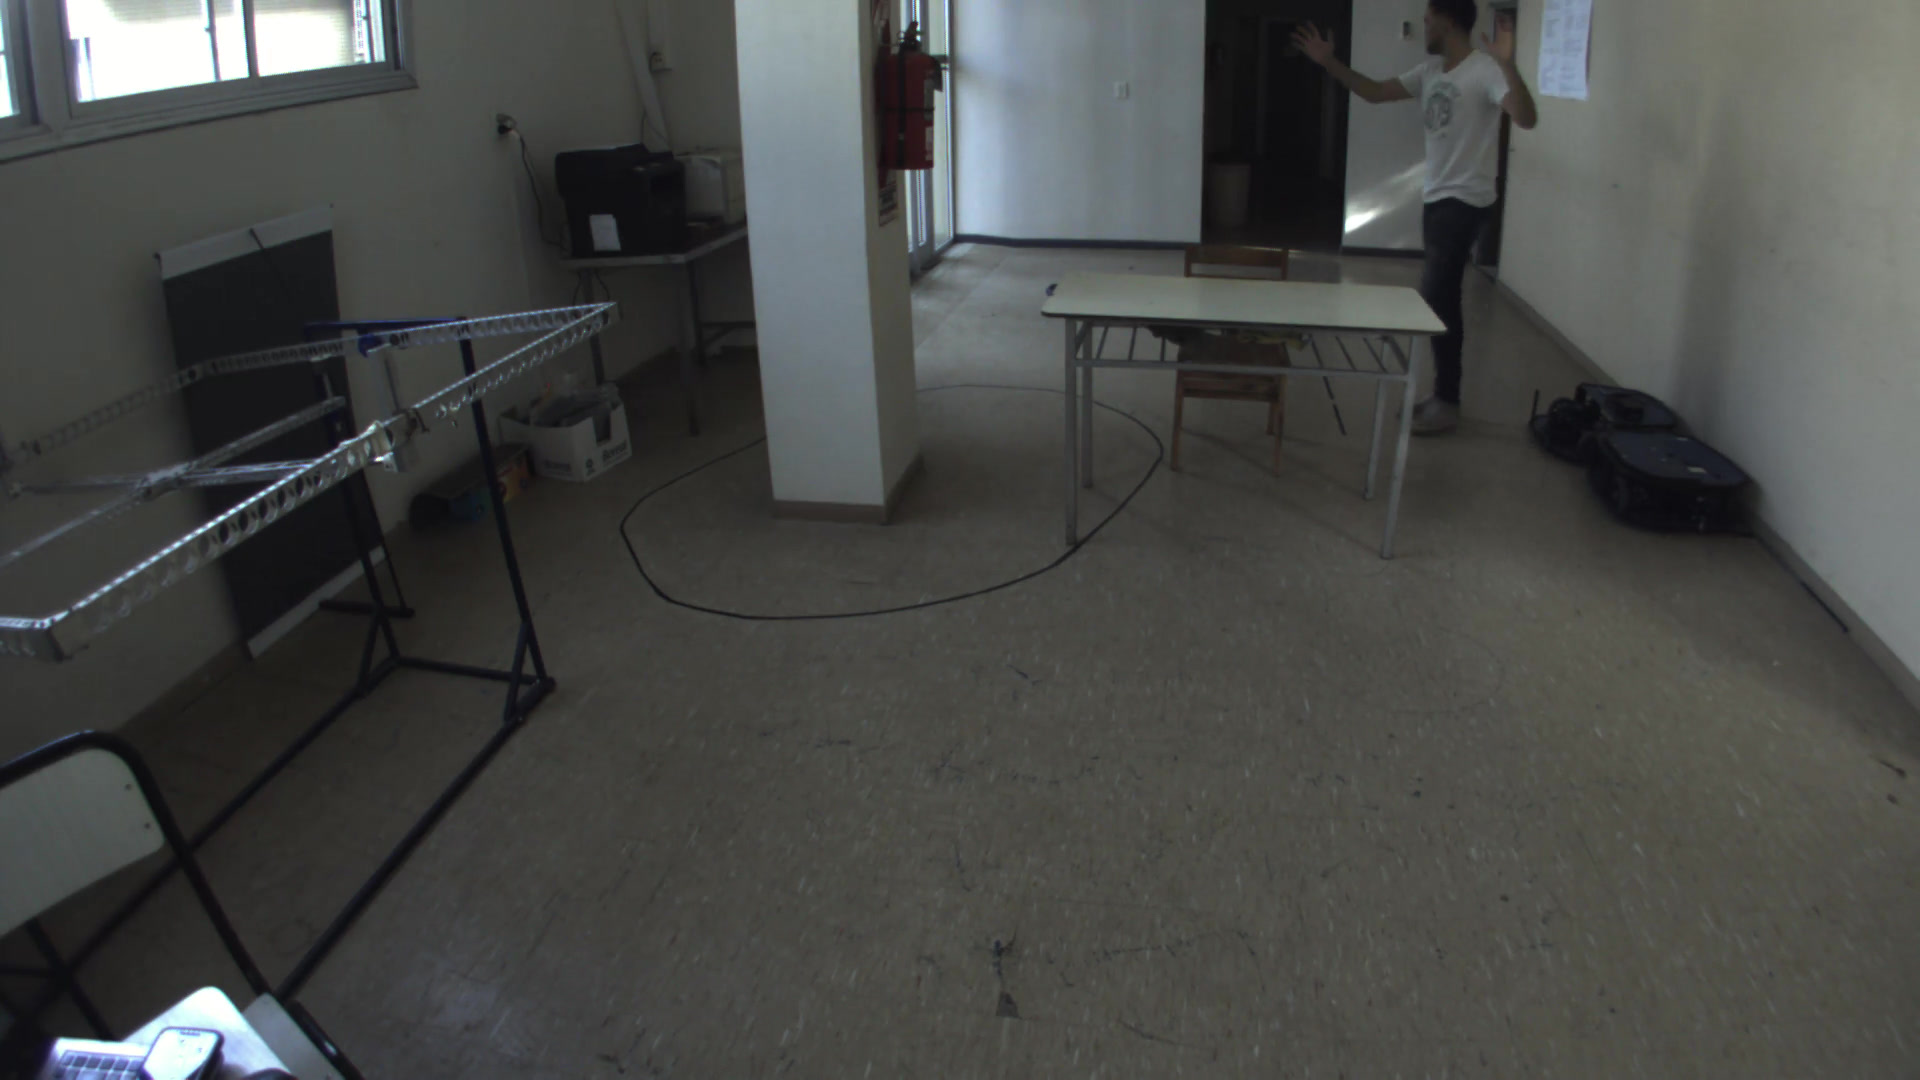hand: (1282, 13, 1342, 65), (1476, 7, 1524, 63)
